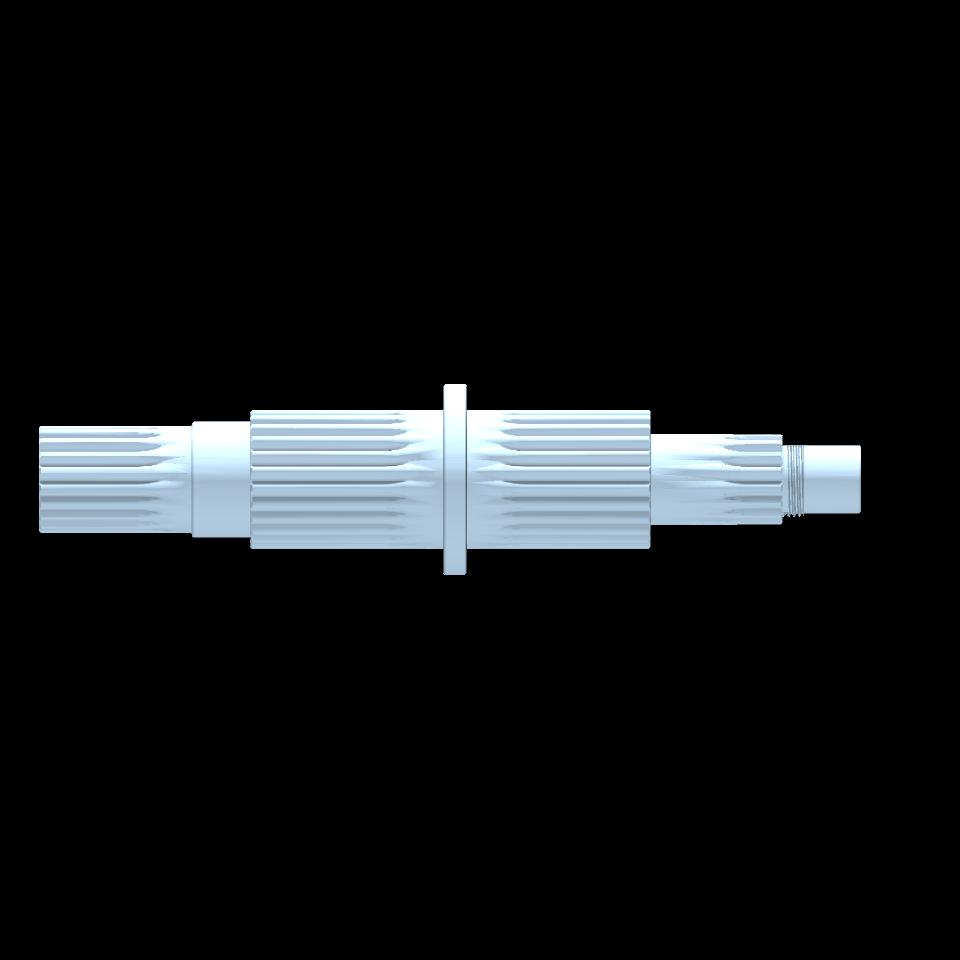Straight: (252, 411, 397, 548), (512, 410, 648, 550), (40, 425, 144, 532), (732, 433, 782, 526)
